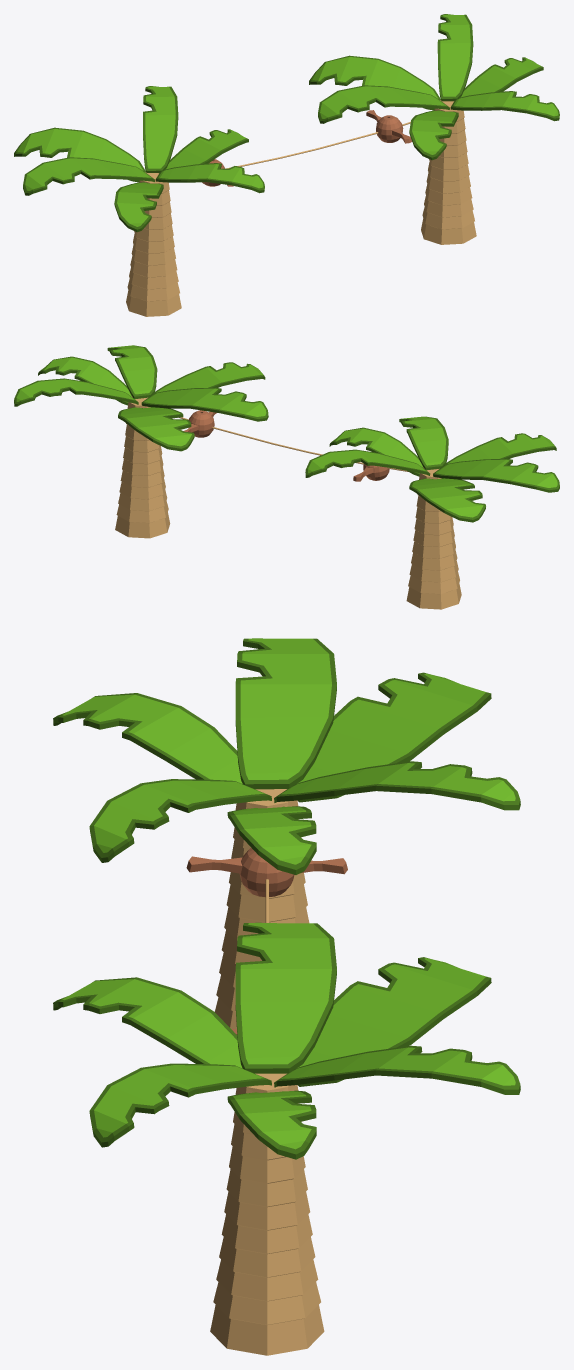
File: palm_zipline_equal_short.glb
3 renders of one model, top to bottom at view 1: azimuth 30°, elevation 25°; view 2: azimuth 150°, elevation 25°; view 3: azimuth 270°, elevation 25°, orthographic. The views are drawn at different scales.
Parts seen in each view (by area): view 1: Zipline-col, HolderRight-col; view 2: Zipline-col, HolderRight-col, HolderLeft-col; view 3: Zipline-col, HolderLeft-col.
Boxes of the visible parts, left/top/right/bottom form: Zipline-col: left=14, top=14, right=559, bottom=316; HolderRight-col: left=366, top=110, right=412, bottom=143; Zipline-col: left=14, top=345, right=559, bottom=609; HolderRight-col: left=183, top=410, right=216, bottom=437; HolderLeft-col: left=353, top=464, right=389, bottom=481; Zipline-col: left=53, top=638, right=520, bottom=1355; HolderLeft-col: left=186, top=847, right=347, bottom=897.
Bounding box in the file's own units: 15.28 × 4.56 × 6.02.
Materials: 1 (1 with a texture image).
